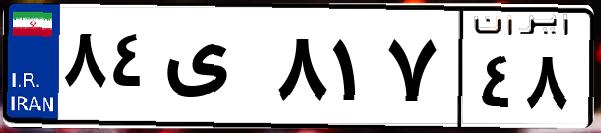1: (330, 28, 385, 110)
4: (475, 38, 525, 113), (110, 28, 158, 98)
7: (385, 28, 445, 110)
8: (270, 28, 330, 110), (57, 26, 110, 100), (525, 38, 570, 115)
ی: (158, 20, 270, 120)
